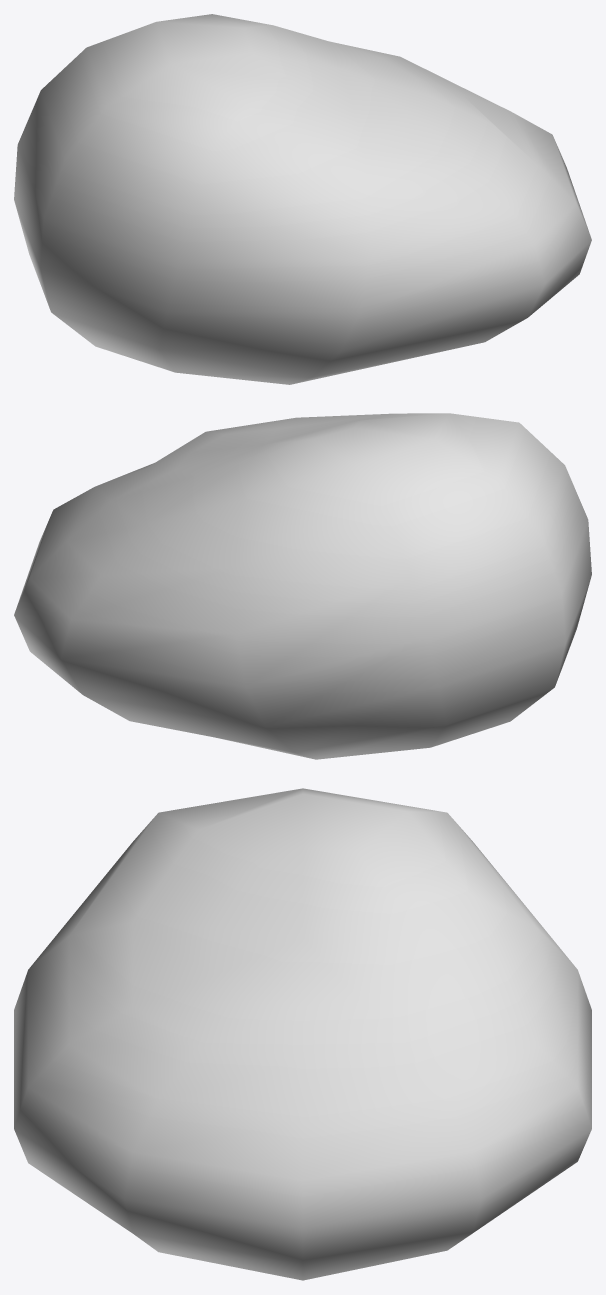
File: SM_Rock_03.fbx
3 renders of one model, top to bottom at view 1: azimuth 30°, elevation 25°; view 2: azimuth 150°, elevation 25°; view 3: azimuth 270°, elevation 25°, orthographic. The views are drawn at different scales.
Visible parts, largest first — view 1: SM_Rock_03; view 2: SM_Rock_03; view 3: SM_Rock_03.
Boxes of the visible parts, x1,y1,x2,y2 form: SM_Rock_03: [14, 14, 591, 384]; SM_Rock_03: [14, 413, 591, 759]; SM_Rock_03: [14, 788, 591, 1280].
Bounding box in the file's own units: 425 × 230 × 365.
1 material, 1 textured.
